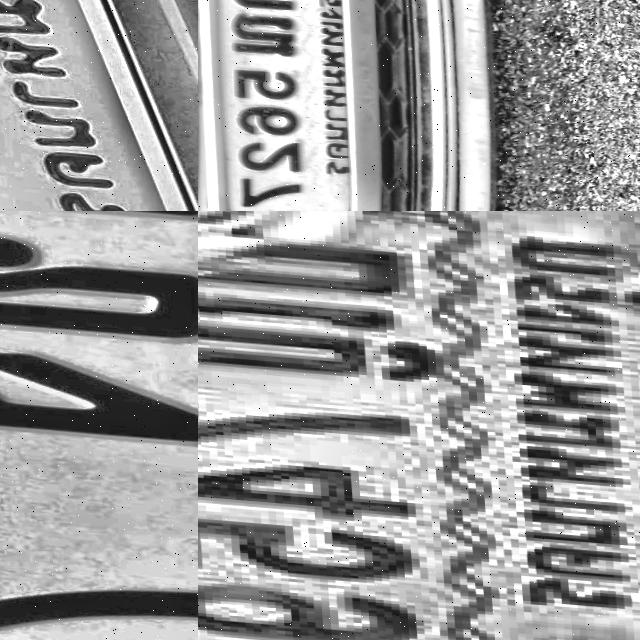license-plate: (198, 211, 640, 640), (0, 211, 198, 640), (0, 0, 198, 211), (198, 0, 378, 211)
